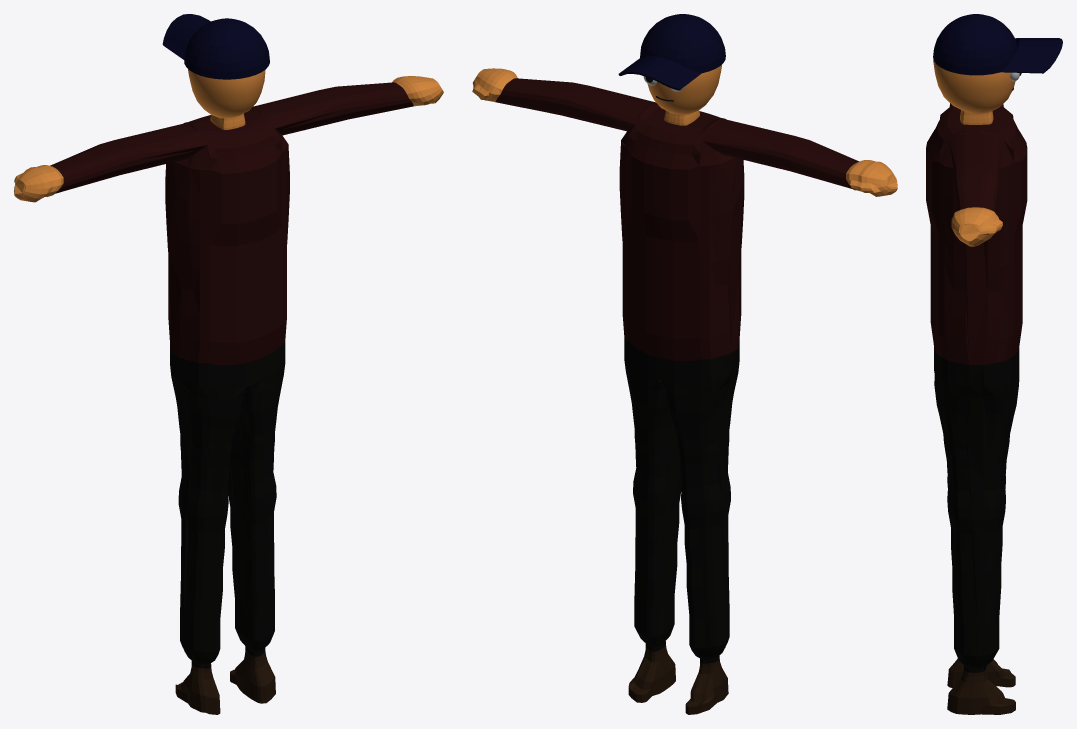
File: Perso.obj
3 views of the same model, side by side, from view 1: azimuth 30°, elevation 25°; view 2: azimuth 150°, elevation 25°; view 3: azimuth 270°, elevation 25° (orthographic).
Parts seen in each view (by area): view 1: Plane, Sphere.001, Icosphere; view 2: Plane, Sphere.001, Icosphere; view 3: Plane, Sphere.001, Icosphere.
Part boxes in pixels (x1,y1,x2,y2): Plane: (14, 76, 443, 714); Sphere.001: (162, 14, 269, 79); Icosphere: (188, 69, 265, 118); Plane: (472, 68, 897, 714); Sphere.001: (618, 14, 725, 90); Icosphere: (643, 65, 721, 114); Plane: (926, 103, 1027, 714); Sphere.001: (933, 14, 1062, 75); Icosphere: (933, 59, 1021, 114).
Bounding box in the file's own units: 1.28 × 1.94 × 0.3542.
